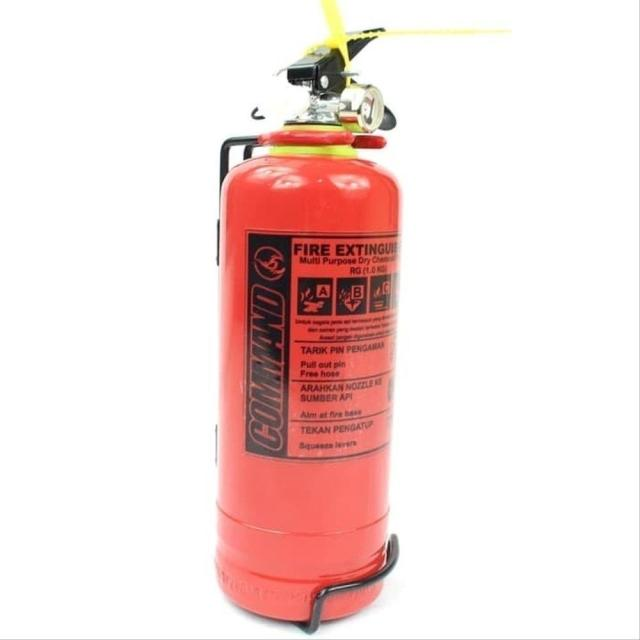fire_extinguisher: (202, 15, 408, 637)
